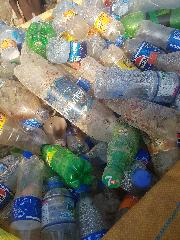plastic: (13, 42, 118, 142), (40, 143, 96, 189), (40, 169, 74, 239), (100, 122, 136, 186), (1, 150, 34, 212)
